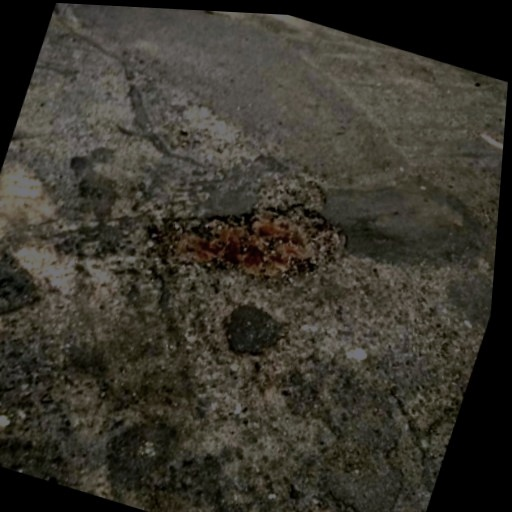pothole: (147, 165, 361, 317)
